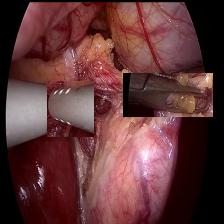Grasper: (122, 72, 212, 116)
Irrigator: (46, 80, 93, 136)
